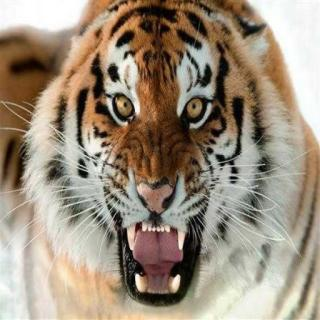Tiger: (18, 0, 315, 318)
